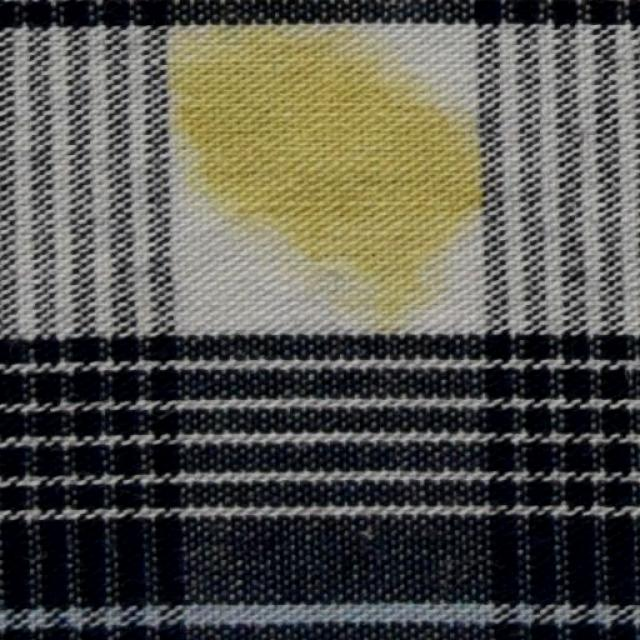Stain: (166, 15, 502, 324)
